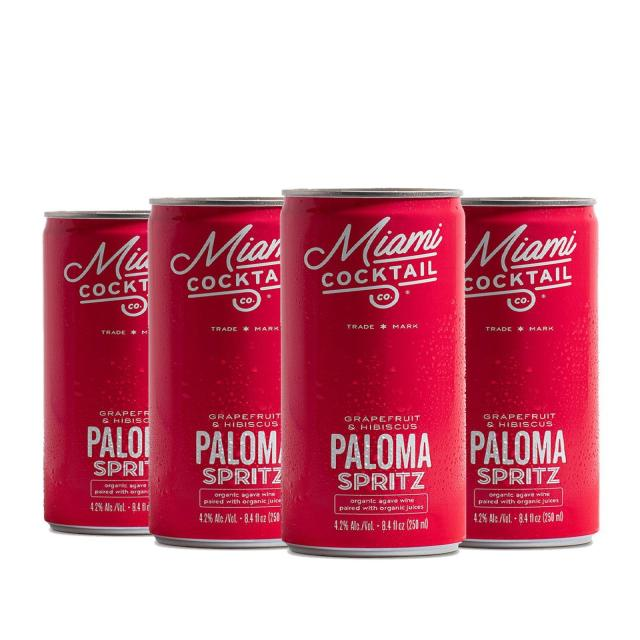Cans: (278, 187, 466, 558), (463, 194, 602, 552), (144, 194, 282, 552), (39, 210, 154, 537)
